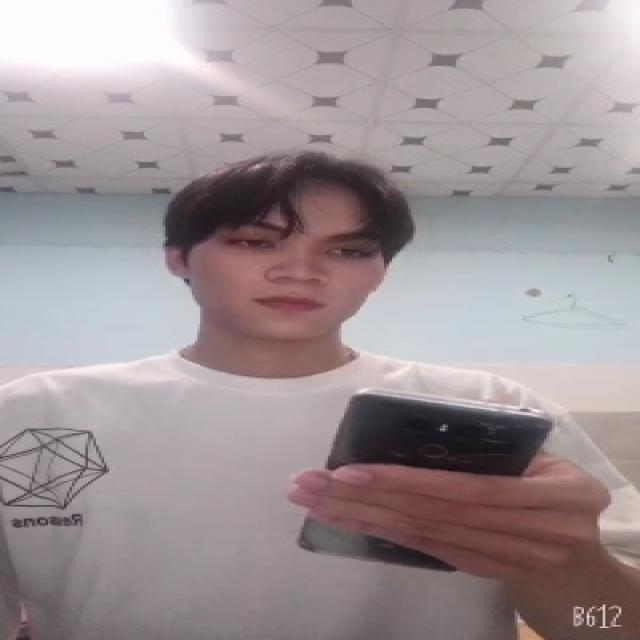Phone: (293, 386, 556, 577)
